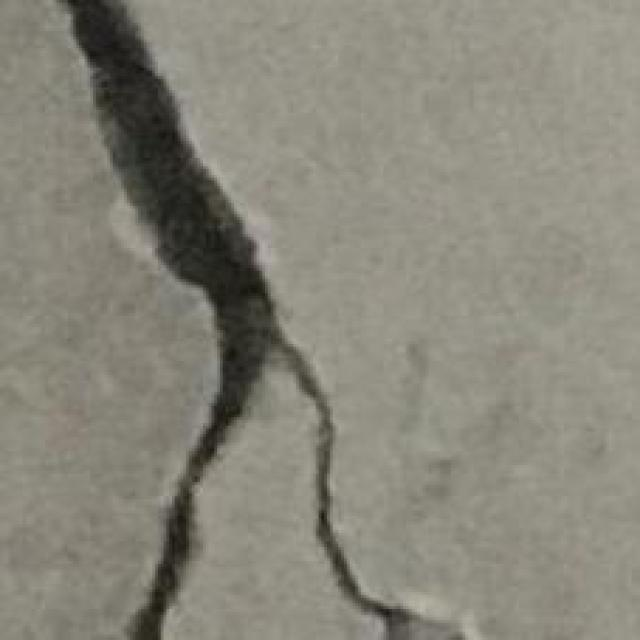Radial: (48, 0, 494, 640)
